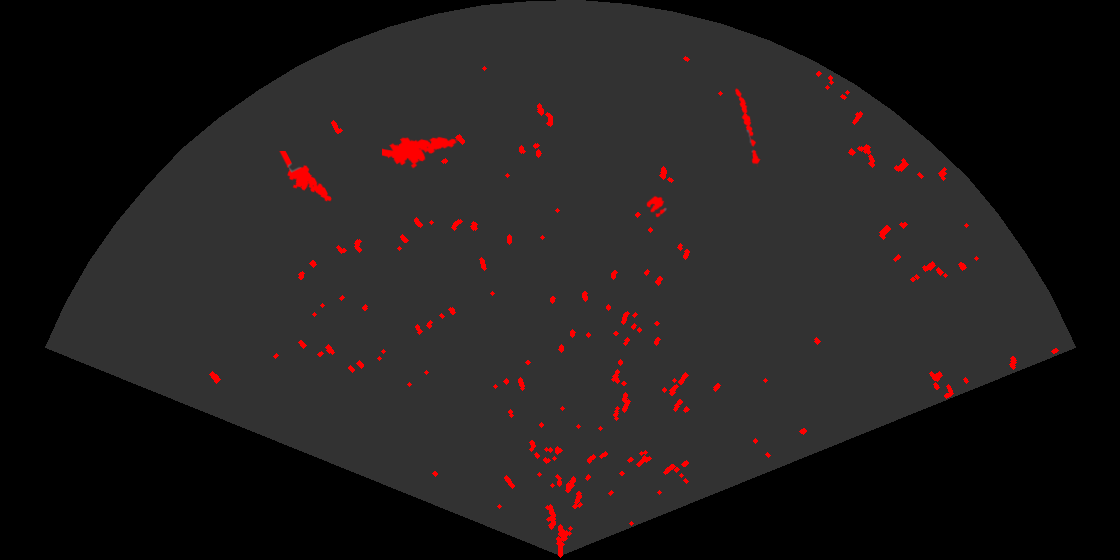ball: (645, 194, 668, 219)
chain: (733, 86, 762, 167)
frogman: (278, 151, 333, 203), (382, 135, 458, 170)
